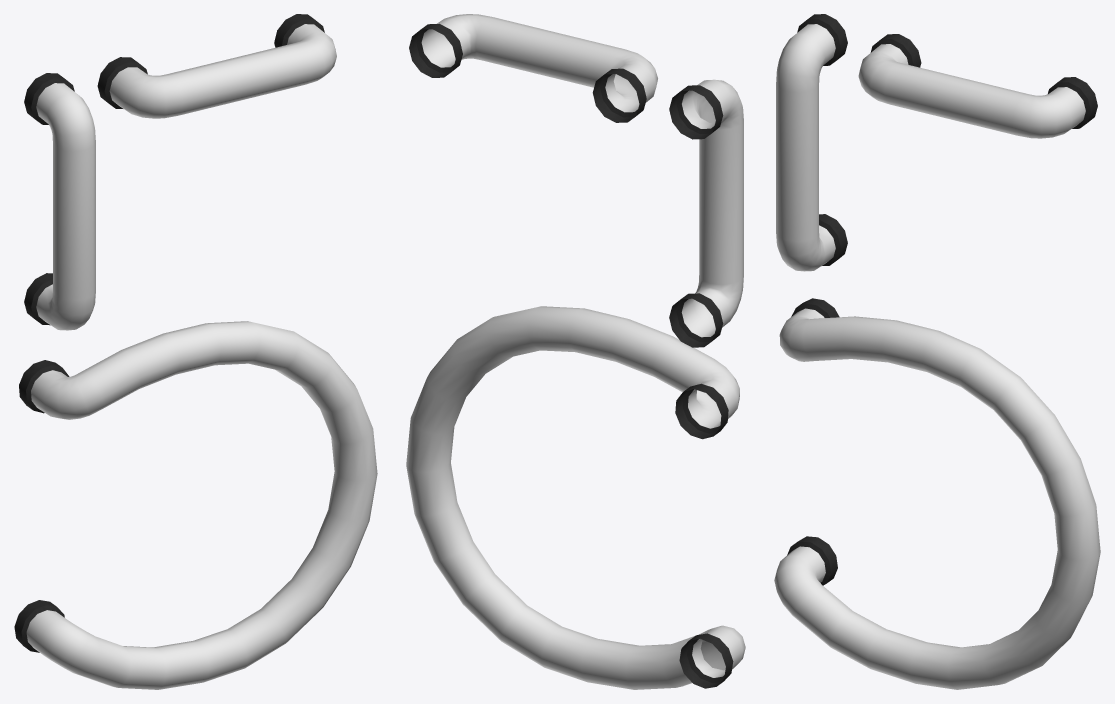
File: LettersNeon01_5.FBX
3 views of the same model, side by side, from view 1: azimuth 30°, elevation 25°; view 2: azimuth 150°, elevation 25°; view 3: azimuth 330°, elevation 25° (orthographic). The views are drawn at different scales.
Parts seen in each view (by area): view 1: LettersNeon01_5; view 2: LettersNeon01_5; view 3: LettersNeon01_5.
Part boxes in pixels (x1,y1,x2,y2): LettersNeon01_5: (14,14,377,689); LettersNeon01_5: (406,14,745,689); LettersNeon01_5: (774,14,1100,689).
Size of what is drawn, in the model's own units: 0.2682 by 0.4765 by 0.054.
